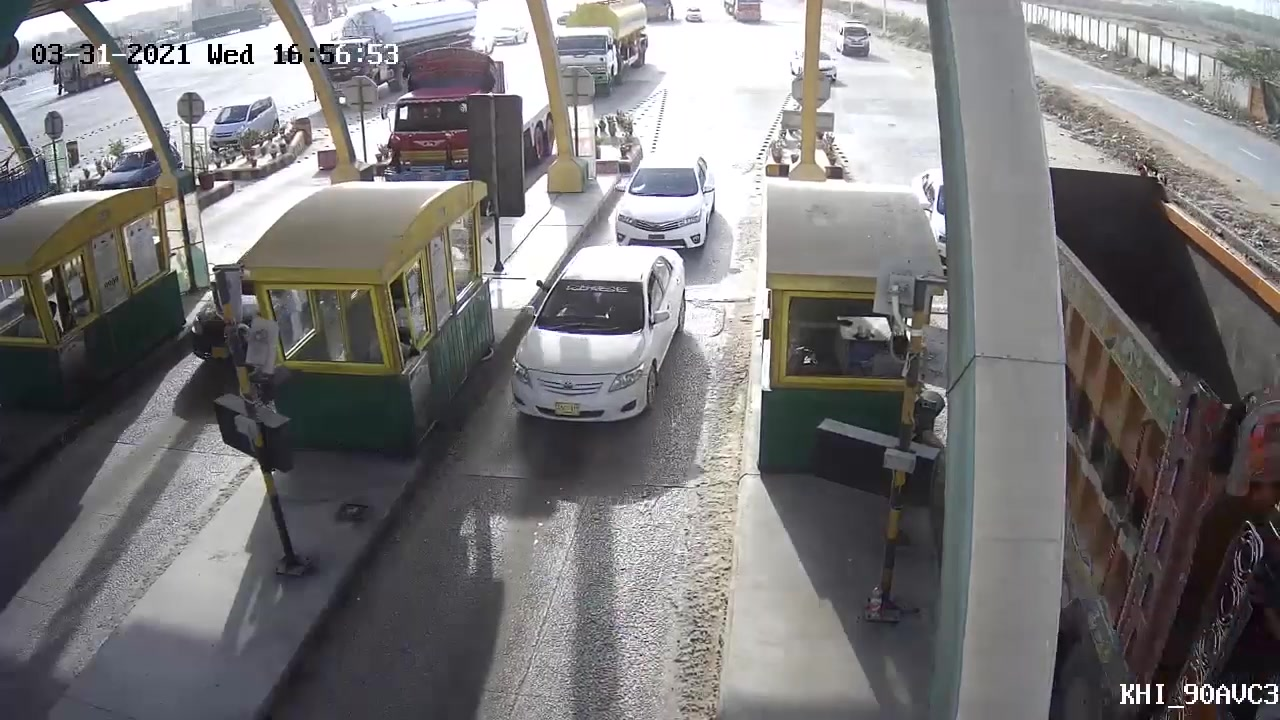F1: (504, 243, 690, 431), (602, 152, 724, 259)
